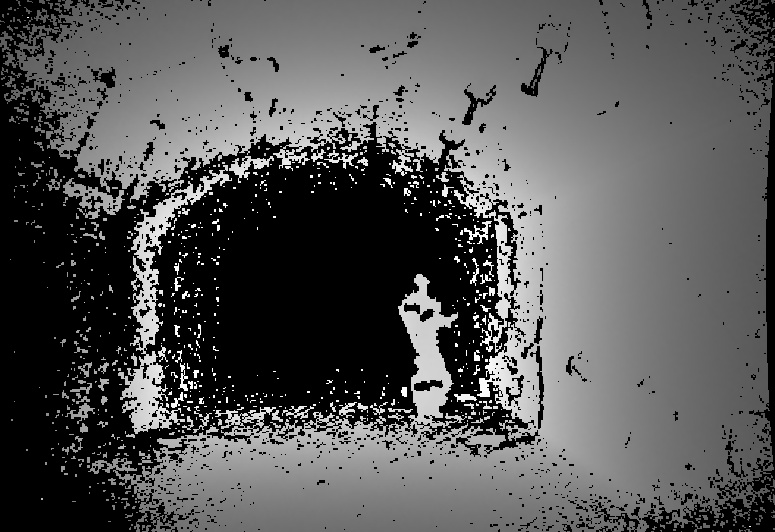person: (399, 274, 458, 419)
